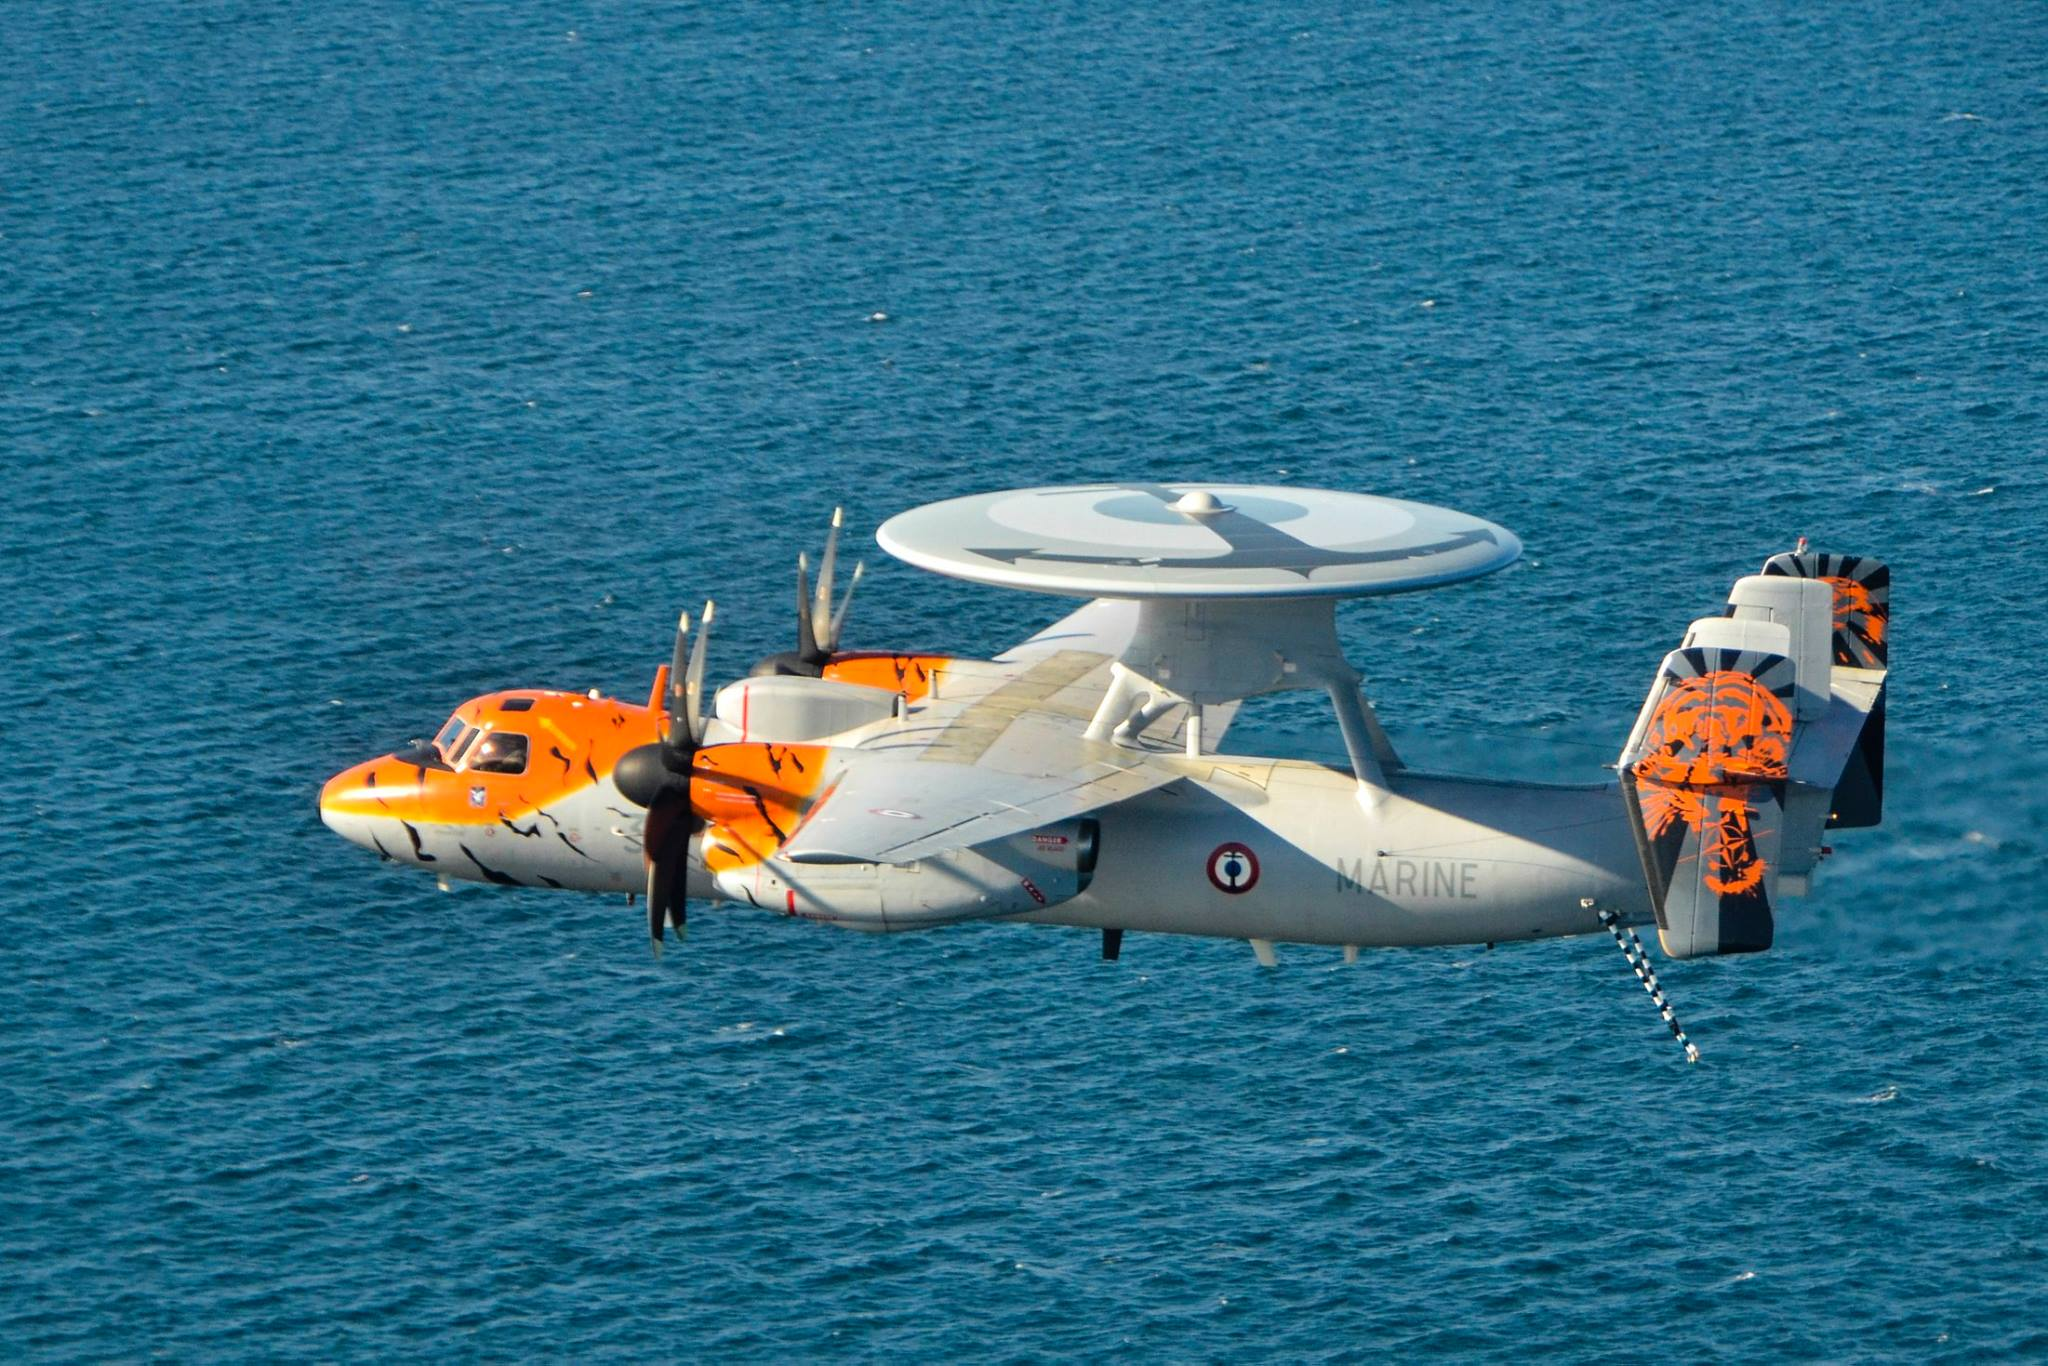E2: (315, 483, 1888, 1066)
